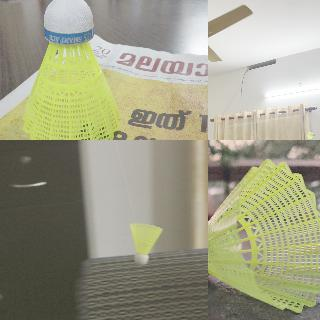shuttlecock: (208, 158, 319, 313), (23, 0, 121, 139), (128, 223, 162, 265), (306, 132, 314, 138)
